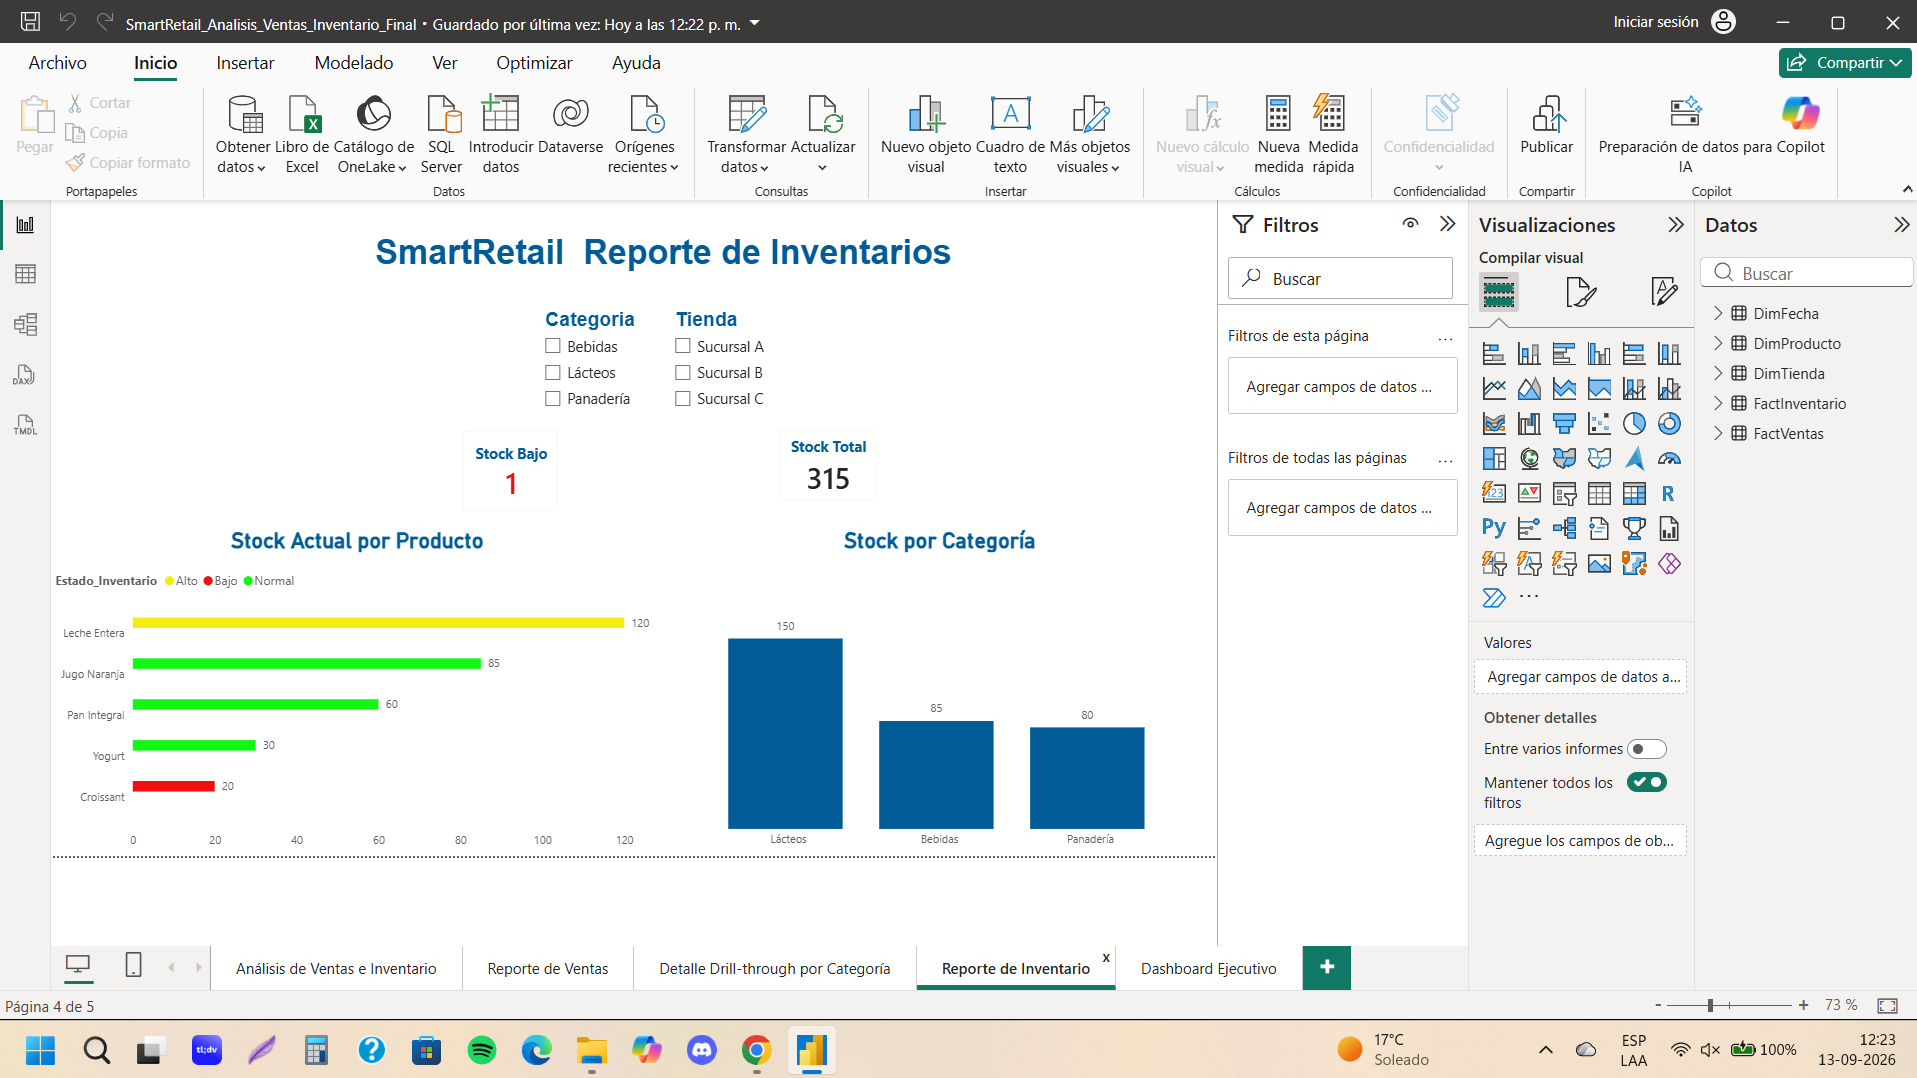

The page's visual inventory and layout, read from the dashboard file:
{"tool":"powerbi","page":{"name":"Reporte de Inventario","canvas":[1280,720],"ordinal":3},"visuals":[{"type":"clusteredBarChart","title":"Stock Actual por Producto","fields":{"Category":["inventario.Producto"],"Y":["Sum(FactInventario.Stock_Actual)"],"Series":["FactInventario.Estado_Inventario"]},"box":[0,359.5,672.4,360.9],"z":0},{"type":"clusteredColumnChart","title":"Stock por Categoría","fields":{"Category":["inventario.Categoria"],"Y":["inventario.Stock Total"]},"box":[672.4,359.5,606.5,360.9],"z":1000},{"type":"slicer","fields":{"Values":["inventario.Tienda"]},"box":[672.4,113.9,126.2,137.2],"z":2000},{"type":"slicer","fields":{"Values":["inventario.Categoria"]},"box":[529.7,113.9,133.1,134.5],"z":3000},{"type":"cardVisual","fields":{"Data":["inventario.Stock Bajo"]},"box":[435,236,140,123.5],"z":4000},{"type":"cardVisual","fields":{"Data":["inventario.Stock Total"]},"box":[782.2,235.7,141.3,111.1],"z":5000},{"type":"textbox","box":[330.7,31.6,683.4,60.4],"z":6000}]}

Visuals, with their boxes on the page's 1280x720 design canvas (x1, y1, x2, y2). These are canvas units, not pixel positions in the 1917x1078 screenshot, which may show the page scaled, cropped or inside an application window:
"Stock Actual por Producto" clusteredBarChart: box(0, 360, 672, 720)
"Stock por Categoría" clusteredColumnChart: box(672, 360, 1279, 720)
slicer - inventario.Tienda: box(672, 114, 799, 251)
slicer - inventario.Categoria: box(530, 114, 663, 248)
cardVisual - inventario.Stock Bajo: box(435, 236, 575, 360)
cardVisual - inventario.Stock Total: box(782, 236, 924, 347)
textbox: box(331, 32, 1014, 92)
